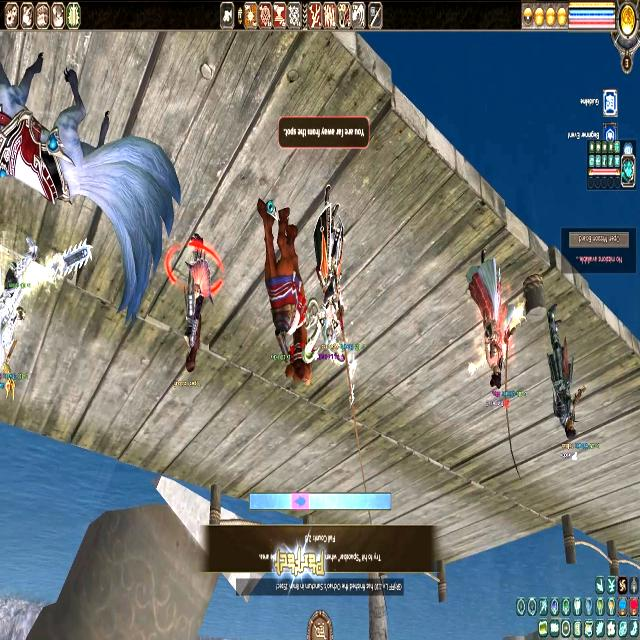fishes: (292, 495, 308, 509)
